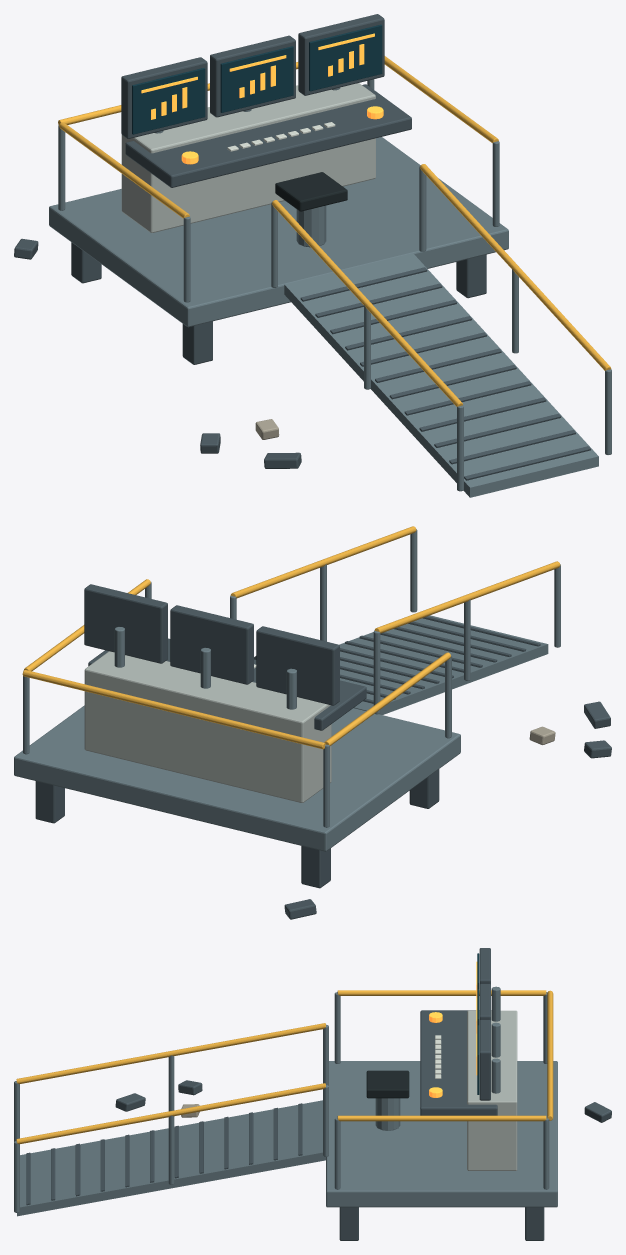
File: control_platform_d1.glb
3 renders of one model, top to bottom at view 1: azimuth 30°, elevation 25°; view 2: azimuth 150°, elevation 25°; view 3: azimuth 270°, elevation 25°, orthographic. The views are drawn at different scales.
Parts seen in each view (by area): view 1: Operator platform.005, Human access ramp.005, Control cabinet.004, Operator desk.004, Monitor screen.012, Monitor screen.010, Monitor screen.011, Ramp handrail.011, Ramp handrail.010, Monitor housing.010, Monitor housing.012, Monitor housing.011 (+20 smaller); view 2: Operator platform.005, Control cabinet.004, Human access ramp.005, Monitor housing.012, Monitor housing.010, Monitor housing.011, Platform back rail.005, Ramp handrail.011, Ramp handrail.010, Operator desk.004, Platform side rail.010, Platform pier.021 (+11 smaller); view 3: Operator platform.005, Human access ramp.005, Control cabinet.004, Operator desk.004, Ramp handrail.011, Ramp handrail.010, Platform side rail.011, Stool seat.004, Platform side rail.010, Monitor housing.012, Platform back rail.005, Operator stool.004 (+11 smaller).
Part boxes in pixels (bbox=[...]): Operator platform.005: bbox=[49, 137, 508, 327]; Human access ramp.005: bbox=[284, 253, 598, 497]; Control cabinet.004: bbox=[121, 83, 375, 232]; Operator desk.004: bbox=[125, 84, 411, 187]; Monitor screen.012: bbox=[309, 24, 382, 91]; Monitor screen.010: bbox=[132, 68, 205, 134]; Monitor screen.011: bbox=[220, 46, 293, 112]; Ramp handrail.011: bbox=[420, 164, 611, 370]; Ramp handrail.010: bbox=[272, 200, 462, 406]; Monitor housing.010: bbox=[121, 57, 207, 138]; Monitor housing.012: bbox=[298, 14, 384, 95]; Monitor housing.011: bbox=[210, 35, 295, 117]; Operator platform.005: bbox=[14, 705, 460, 851]; Control cabinet.004: bbox=[84, 651, 331, 802]; Human access ramp.005: bbox=[339, 615, 548, 714]; Monitor housing.012: bbox=[84, 584, 167, 663]; Monitor housing.010: bbox=[256, 626, 339, 705]; Monitor housing.011: bbox=[170, 605, 253, 684]; Platform back rail.005: bbox=[22, 670, 325, 749]; Ramp handrail.011: bbox=[230, 526, 416, 598]; Ramp handrail.010: bbox=[374, 561, 560, 633]; Operator desk.004: bbox=[88, 638, 366, 730]; Platform side rail.010: bbox=[324, 652, 450, 745]; Platform pier.021: bbox=[301, 846, 330, 888]; Operator platform.005: bbox=[326, 1061, 557, 1207]; Human access ramp.005: bbox=[17, 1100, 325, 1216]; Control cabinet.004: bbox=[467, 1010, 517, 1170]; Operator desk.004: bbox=[420, 1010, 497, 1115]; Ramp handrail.011: bbox=[16, 1083, 325, 1144]; Ramp handrail.010: bbox=[16, 1023, 325, 1084]; Platform side rail.011: bbox=[337, 1115, 546, 1121]; Stool seat.004: bbox=[366, 1070, 409, 1098]; Platform side rail.010: bbox=[337, 990, 546, 995]; Monitor housing.012: bbox=[479, 1020, 490, 1100]; Platform back rail.005: bbox=[547, 990, 553, 1120]; Operator stool.004: bbox=[375, 1098, 400, 1130].
Size of the model in its own units: 4.88 by 2.72 by 7.74.
